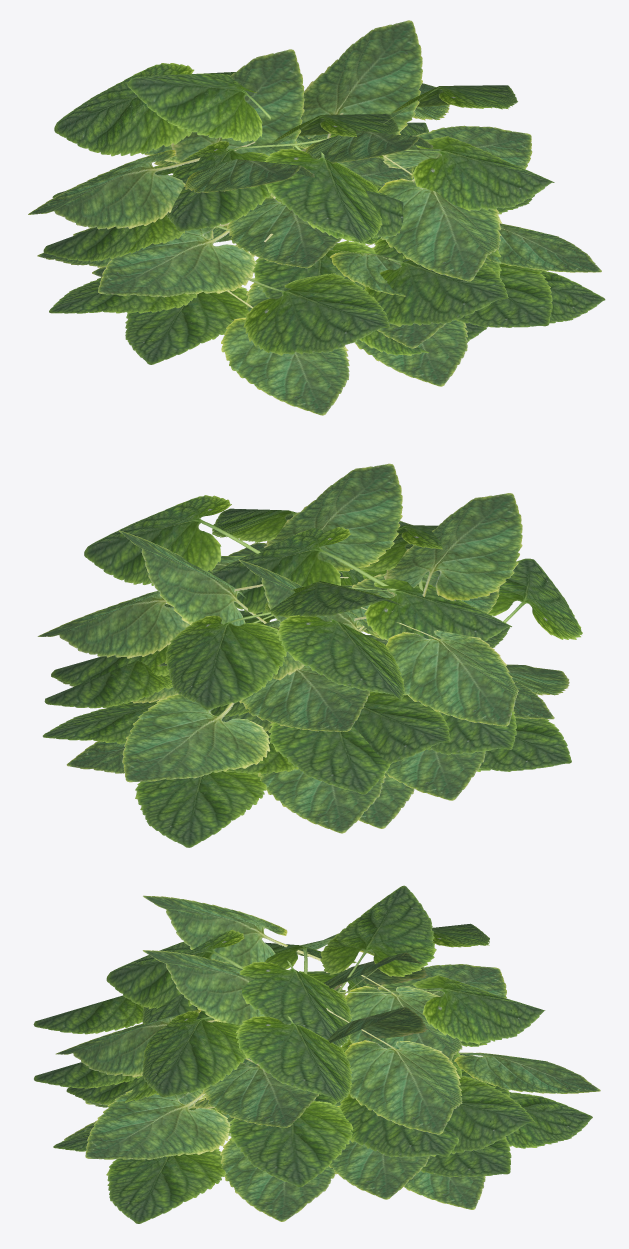
Rendered from bush_01.fbx.
3 renders of one model, top to bottom at view 1: azimuth 30°, elevation 25°; view 2: azimuth 150°, elevation 25°; view 3: azimuth 270°, elevation 25°, orthographic. The views are drawn at different scales.
Parts seen in each view (by area): view 1: pPlane2 (×4), pPlane4 (×3), pPlane14 (×2), pPlane5 (×2), pPlane3 (×3), pPlane8 (×3), pPlane13 (×2), pPlane9 (×3), pPlane6 (×3), pPlane16, pPlane11 (×2), pPlane15 (×2) (+3 smaller); view 2: pPlane2 (×4), pPlane15 (×2), pPlane8 (×4), pPlane4 (×3), pPlane5 (×3), pPlane3 (×2), pPlane11 (×3), pPlane6, pPlane14 (×2), pPlane9 (×2), pPlane1, pPlane10 (+4 smaller); view 3: pPlane2 (×4), pPlane4 (×3), pPlane8 (×4), pPlane3 (×2), pPlane15 (×2), pPlane6 (×2), pPlane5 (×3), pPlane9 (×2), pPlane1, pPlane16, pPlane12 (×2), pPlane10 (+4 smaller).
Boxes of the visible parts, left/top/right/bottom form: pPlane2 (×4): left=54, top=63, right=517, bottom=243; pPlane4 (×3): left=28, top=83, right=501, bottom=281; pPlane14 (×2): left=171, top=20, right=422, bottom=163; pPlane5 (×2): left=243, top=255, right=508, bottom=355; pPlane3 (×3): left=98, top=196, right=601, bottom=297; pPlane8 (×3): left=167, top=136, right=554, bottom=240; pPlane13 (×2): left=221, top=291, right=467, bottom=415; pPlane9 (×3): left=226, top=125, right=532, bottom=268; pPlane6 (×3): left=125, top=262, right=605, bottom=364; pPlane16: left=127, top=73, right=301, bottom=150; pPlane11 (×2): left=49, top=263, right=552, bottom=327; pPlane15 (×2): left=184, top=130, right=433, bottom=193; pPlane2 (×4): left=84, top=495, right=442, bottom=700; pPlane15 (×2): left=264, top=463, right=522, bottom=600; pPlane8 (×4): left=165, top=508, right=511, bottom=709; pPlane4 (×3): left=37, top=584, right=518, bottom=726; pPlane5 (×3): left=44, top=558, right=582, bottom=764; pPlane3 (×2): left=122, top=680, right=554, bottom=782; pPlane11 (×3): left=42, top=700, right=571, bottom=774; pPlane6: left=135, top=771, right=266, bottom=847; pPlane14 (×2): left=118, top=530, right=377, bottom=635; pPlane9 (×2): left=239, top=571, right=499, bottom=731; pPlane1: left=268, top=722, right=390, bottom=794; pPlane10: left=258, top=768, right=385, bottom=833; pPlane2 (×4): left=106, top=923, right=489, bottom=1102; pPlane4 (×3): left=55, top=967, right=462, bottom=1134; pPlane8 (×4): left=142, top=942, right=545, bottom=1097; pPlane3 (×2): left=85, top=1052, right=600, bottom=1159; pPlane15 (×2): left=142, top=895, right=347, bottom=1025; pPlane6 (×2): left=106, top=1091, right=592, bottom=1223; pPlane5 (×3): left=33, top=995, right=534, bottom=1156; pPlane9 (×2): left=202, top=964, right=506, bottom=1127; pPlane1: left=228, top=1100, right=353, bottom=1187; pPlane16: left=320, top=885, right=436, bottom=992; pPlane12 (×2): left=66, top=1076, right=458, bottom=1157; pPlane10: left=220, top=1138, right=336, bottom=1221.
Bounding box in the file's own units: 4.04 × 1.62 × 4.46.
